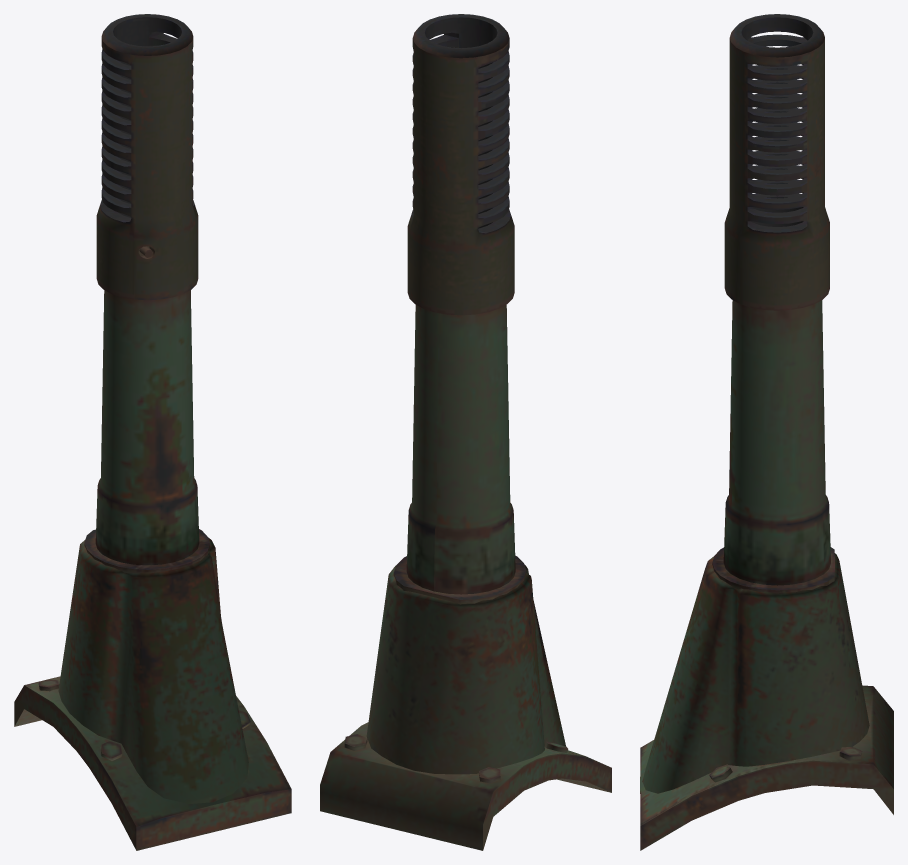
Rendered from Gun_11.glb.
The picture shows the model from 3 angles, left to right: view 1: azimuth 30°, elevation 25°; view 2: azimuth 150°, elevation 25°; view 3: azimuth 270°, elevation 25°; orthographic projection. The views are drawn at different scales.
Parts seen in each view (by area): view 1: set_0_group_0; view 2: set_0_group_0; view 3: set_0_group_0.
Boxes of the visible parts, x1=… form: set_0_group_0: x1=14, y1=14, x2=291, y2=850; set_0_group_0: x1=320, y1=14, x2=611, y2=850; set_0_group_0: x1=640, y1=14, x2=893, y2=850.
Bounding box in the file's own units: 0.4668 × 2.16 × 0.6379.
Materials: 1 (1 with a texture image).
